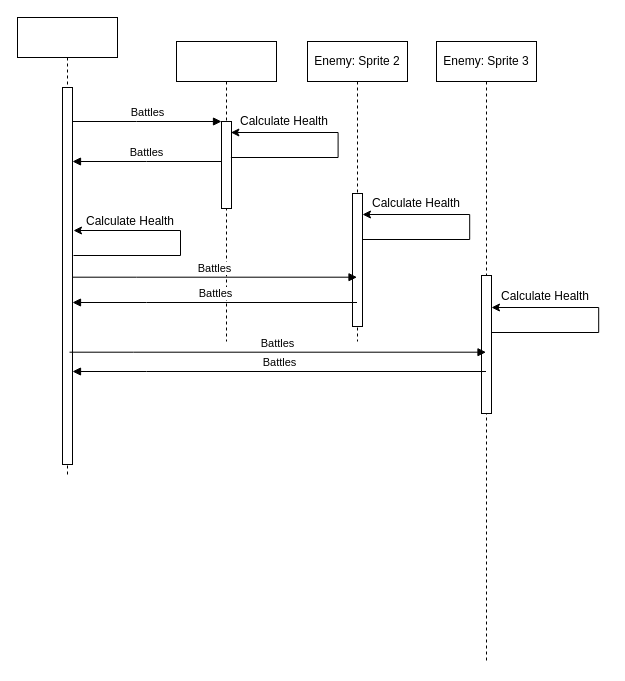
Image size: 625x681. Some labels were removed from this diagram. The shapes that lost their labels are listed below. From the top down, each one's box as (x1, y1, x2, y2) in pixels, then its label:
(176, 40, 276, 342): Enemy: Sprite 1
(16, 16, 118, 474): Player
